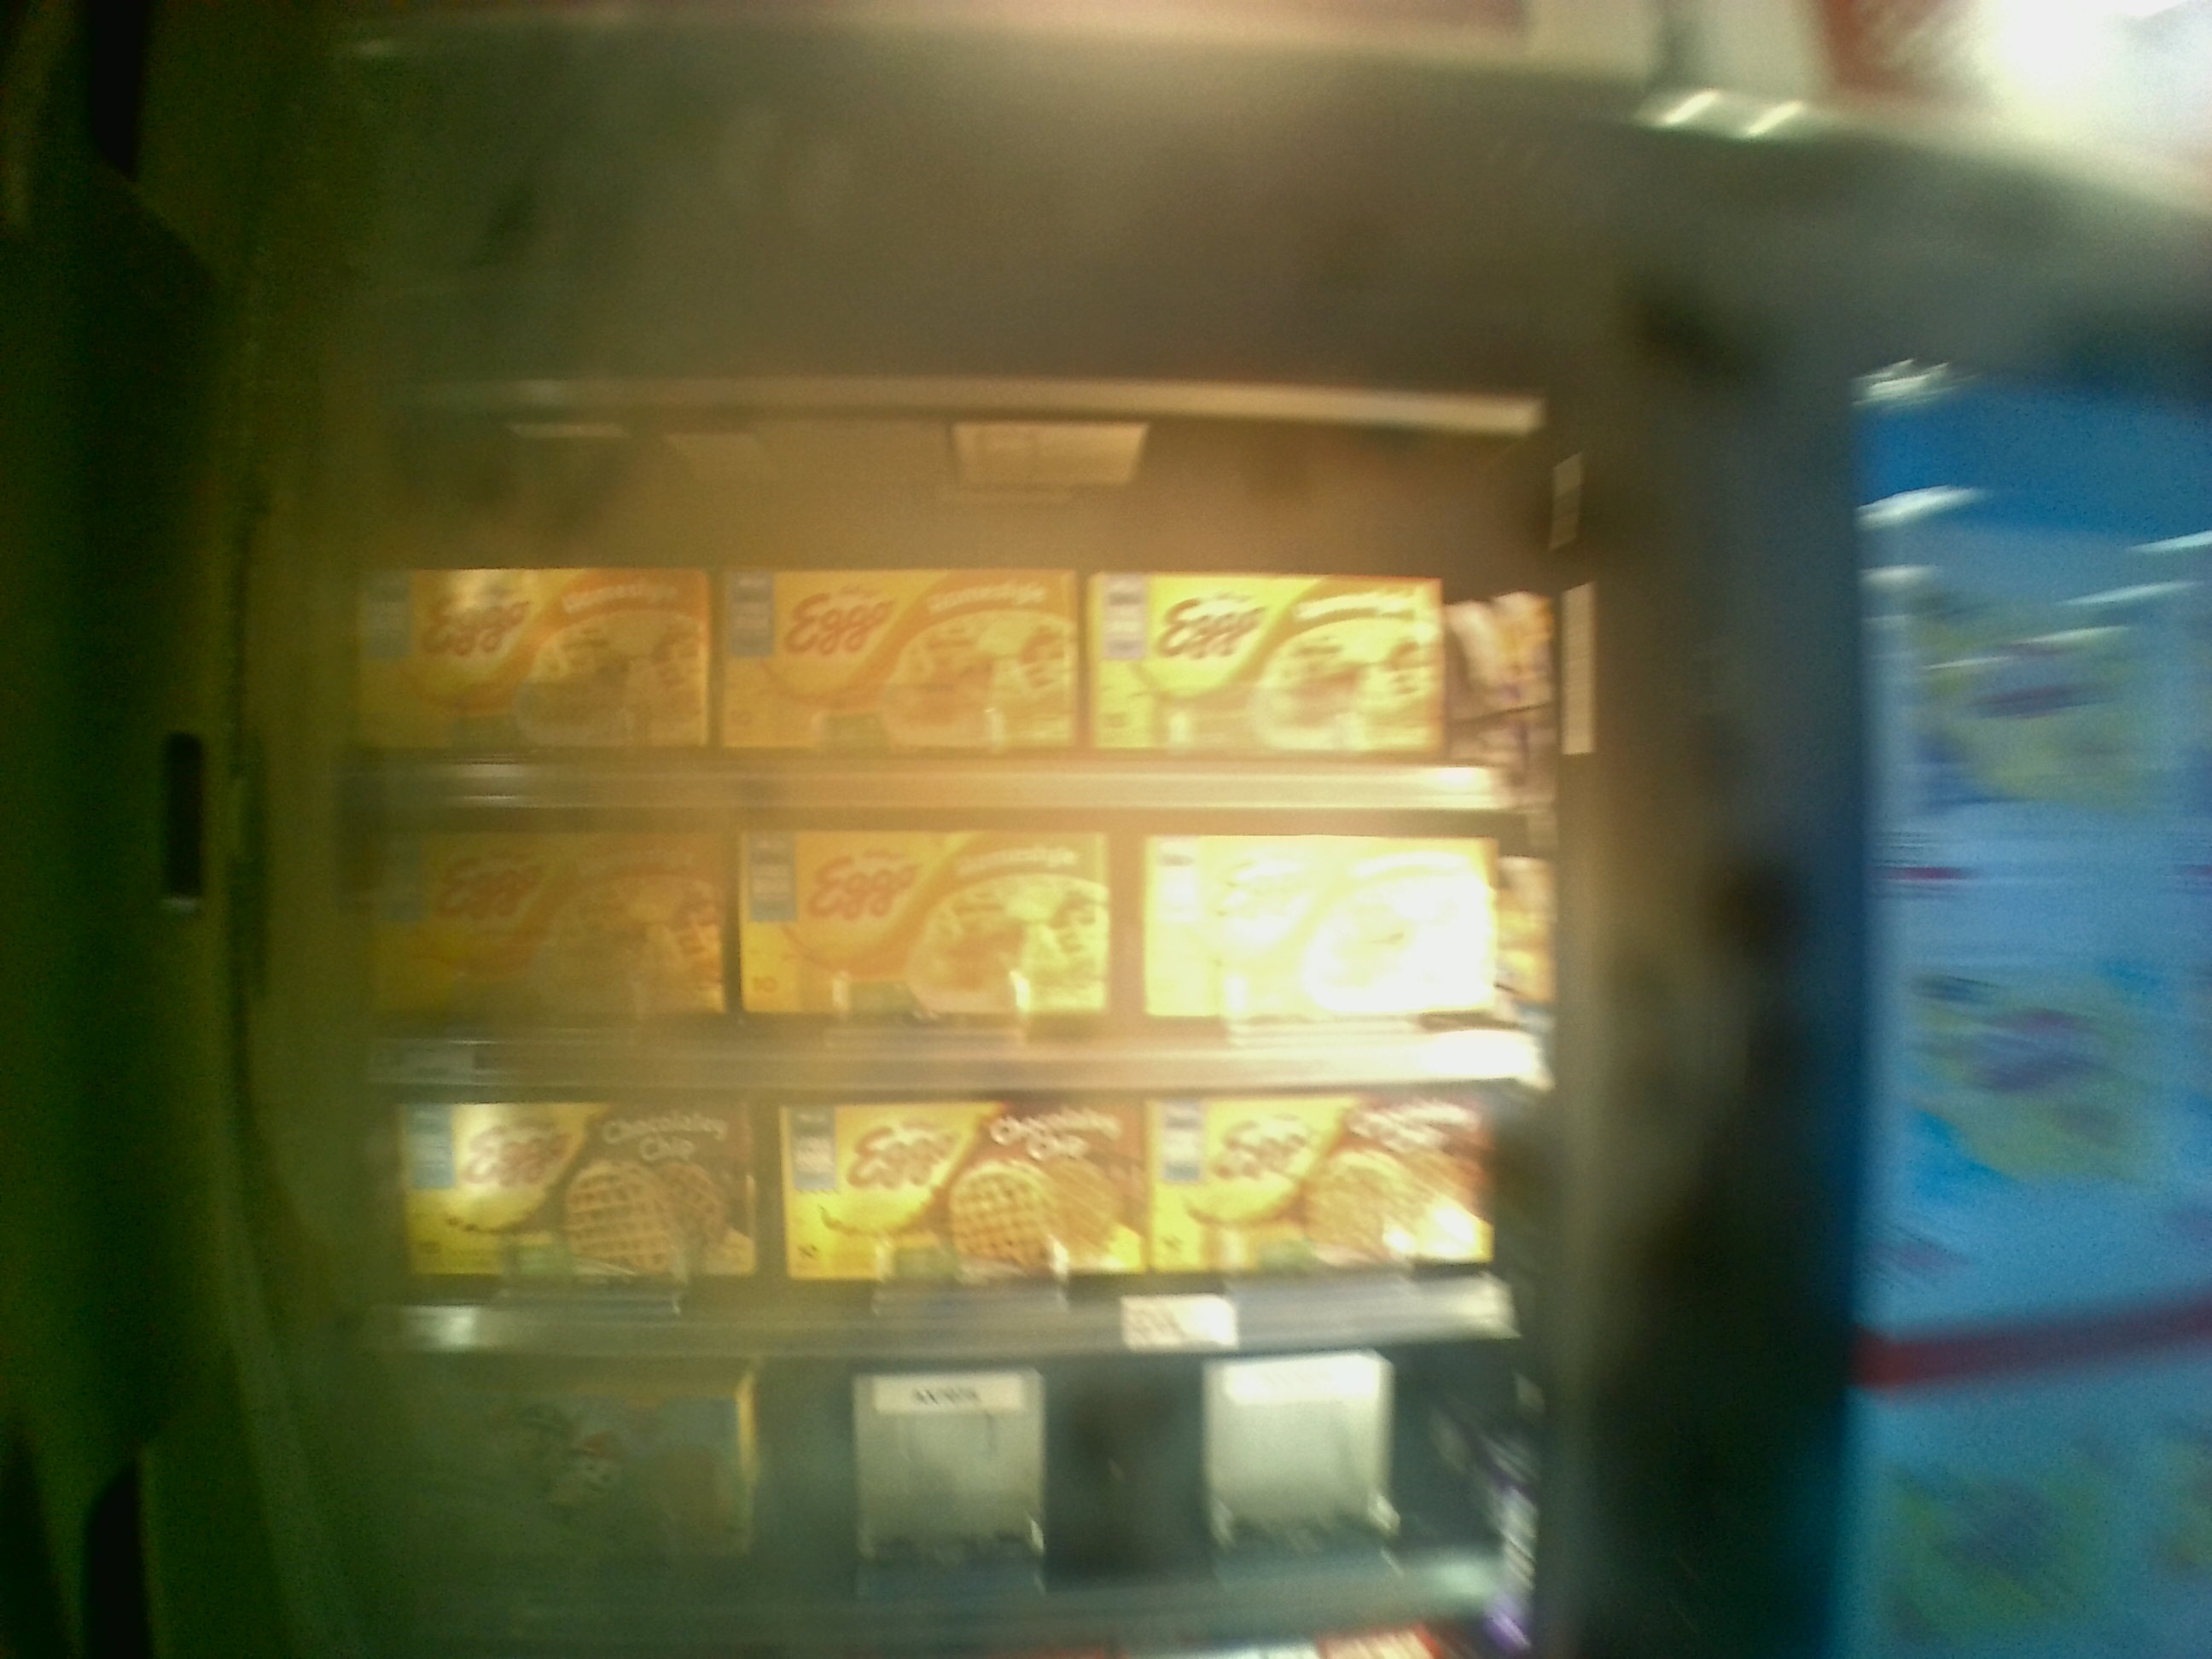shelf: (307, 498, 1559, 817), (298, 817, 1545, 1082), (308, 1089, 1529, 1349)
